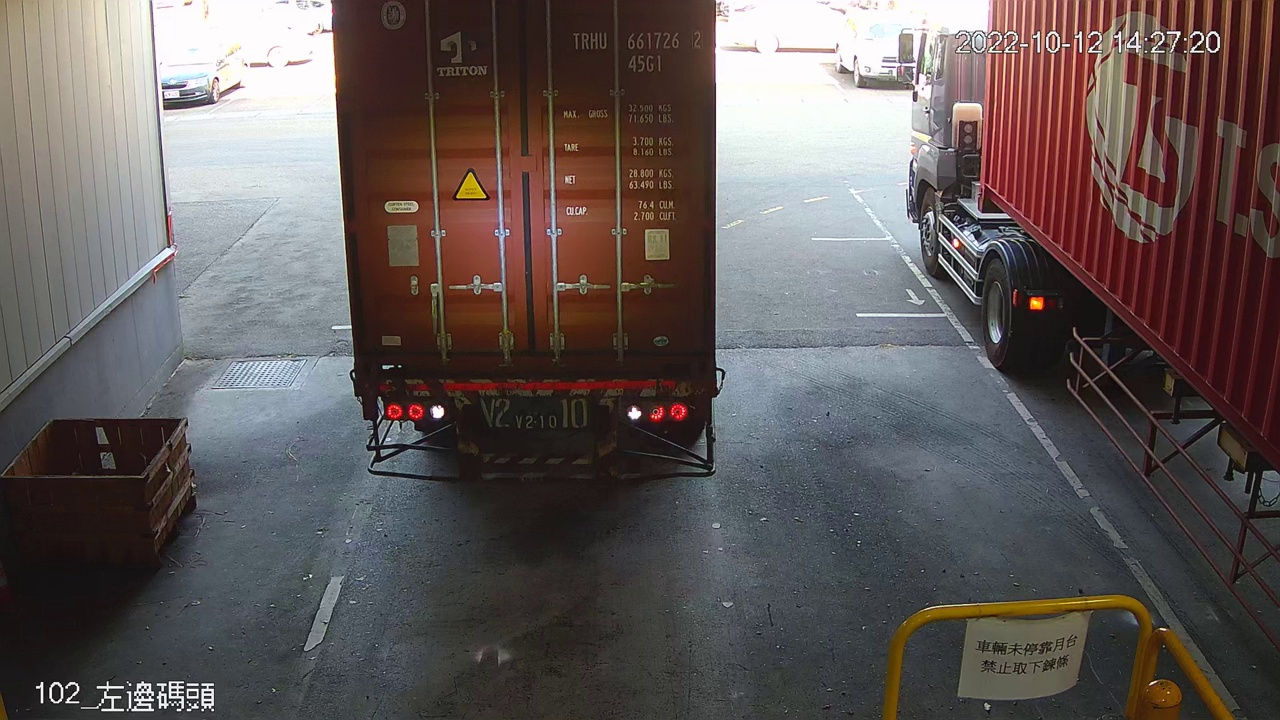container: (565, 24, 708, 77)
